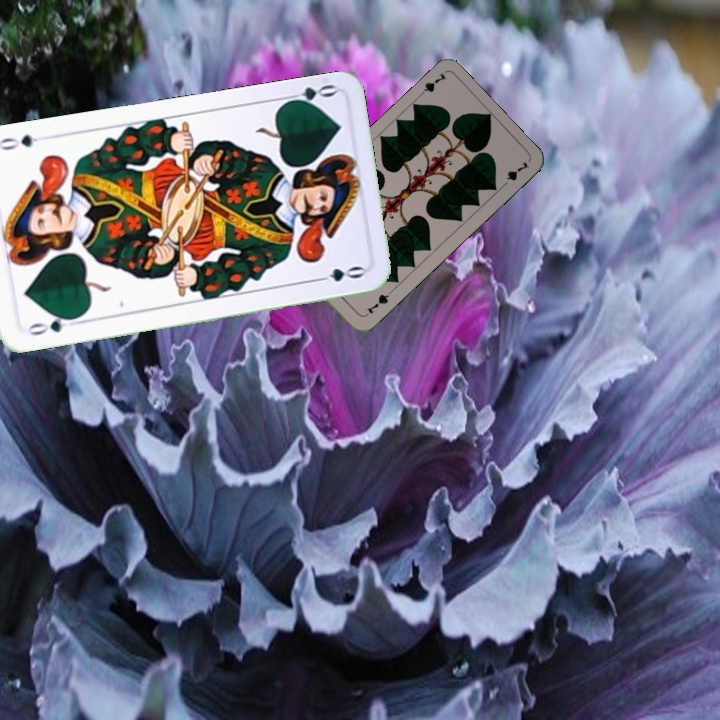G7: (414, 68, 449, 101), (360, 288, 393, 319)
GO: (278, 80, 338, 109), (22, 311, 80, 338)
